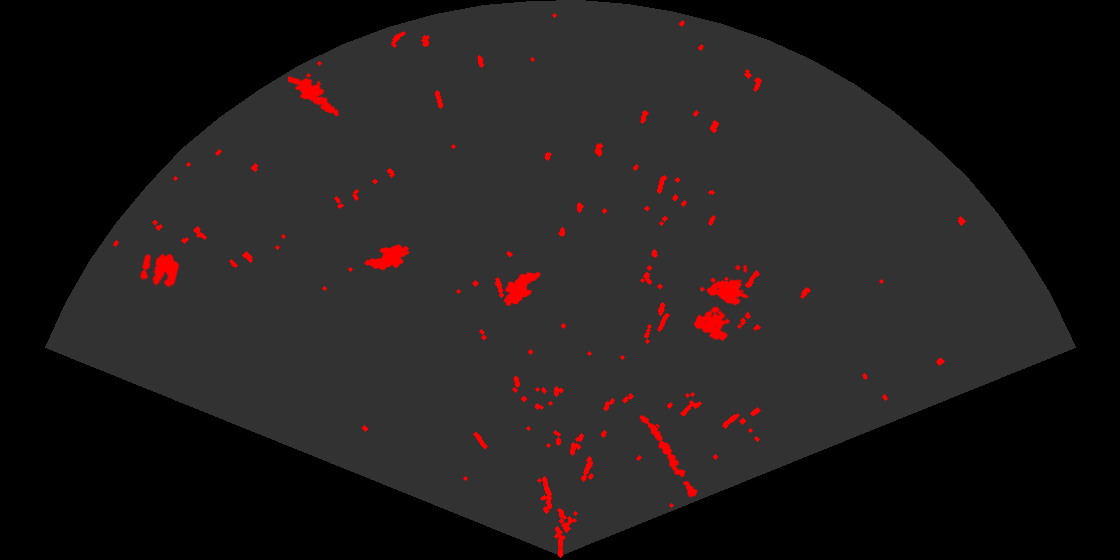AUV: (502, 270, 542, 307), (363, 243, 411, 272)
ball: (138, 252, 181, 289)
cage: (692, 265, 749, 343)
chain: (638, 414, 699, 499)
frogman: (288, 75, 341, 118)
